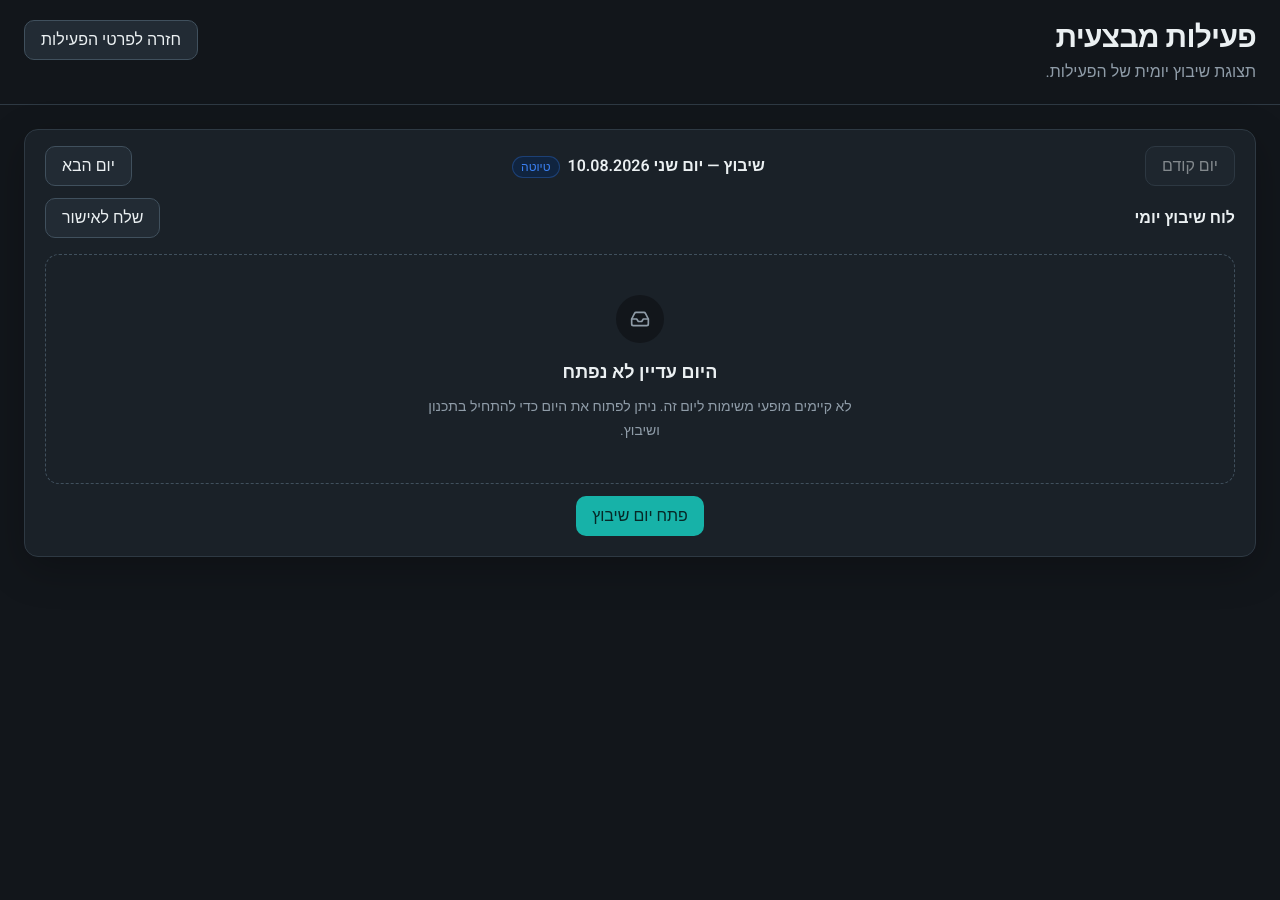
Scenario: ActivityPlanningPage › renders task definitions as columns and places blocks inside the correct task column
Step 1. Click the button "יום הבא" → (88, 166), box [45,146,132,186]
(page scrolled)
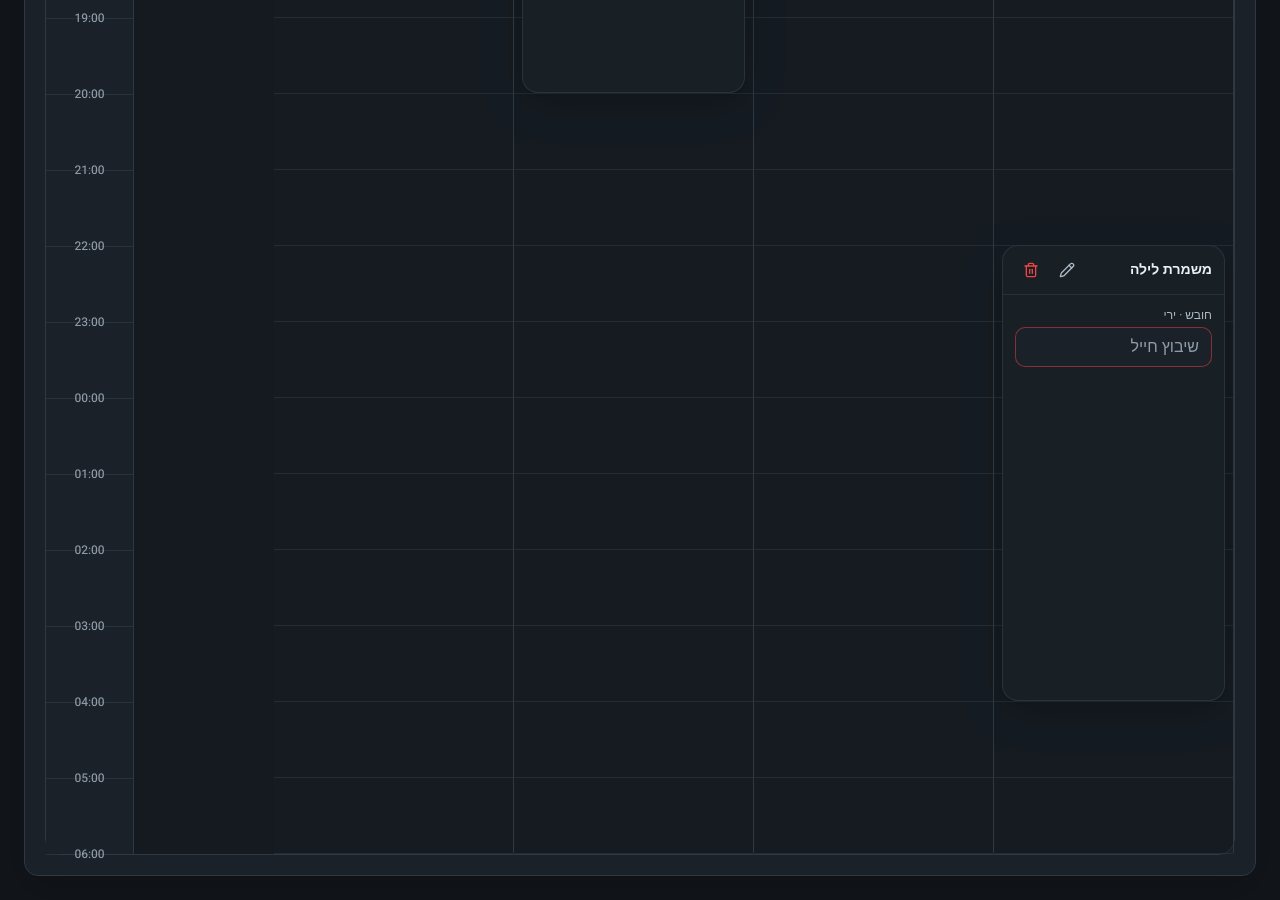
Result: the element with test id "planning-instance-block-instance-2" is shown at [1002,244,1225,700]
